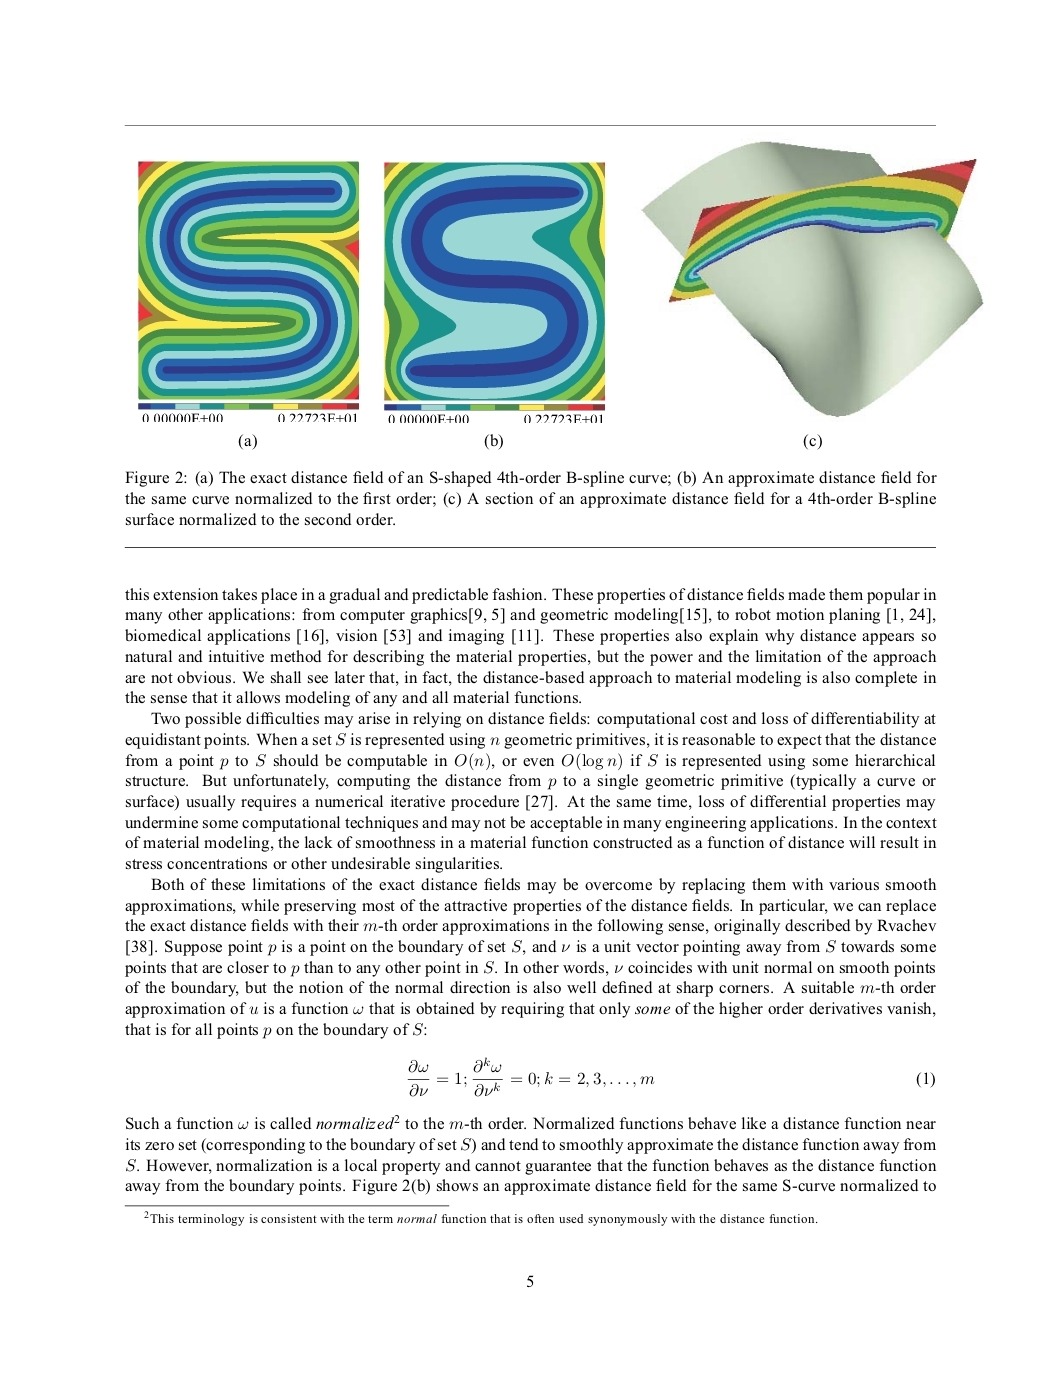figure: (641, 142, 983, 416), (383, 162, 606, 422), (137, 160, 360, 421)
formula: (407, 1056, 934, 1097)
